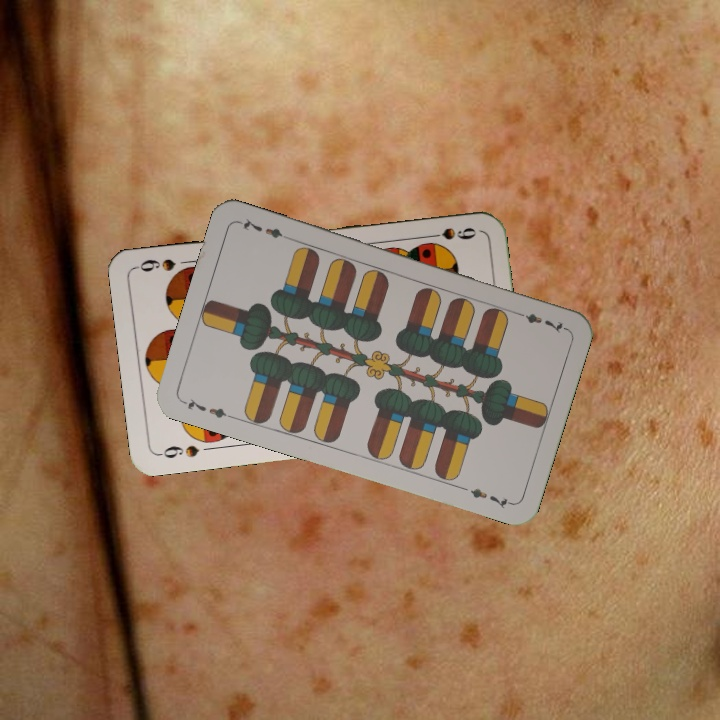E7: (510, 307, 568, 335), (179, 394, 236, 422)
S9: (421, 223, 479, 243), (154, 441, 202, 461)
